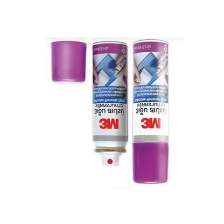aerosol_cans: (128, 38, 173, 187), (88, 39, 131, 171)
